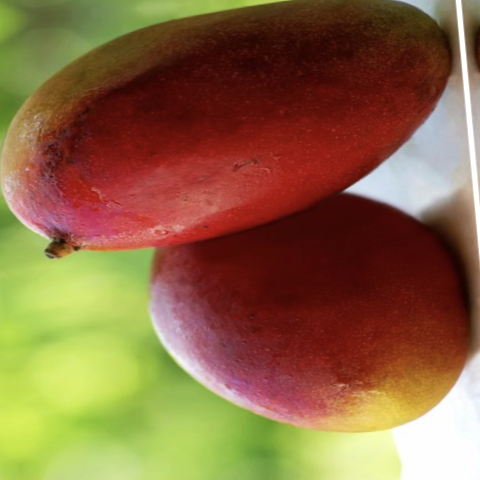mango: (0, 0, 480, 291), (133, 146, 480, 475)
